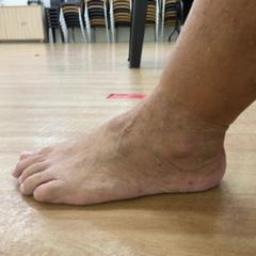Lateral View -Left Foot-: (6, 86, 246, 219)
